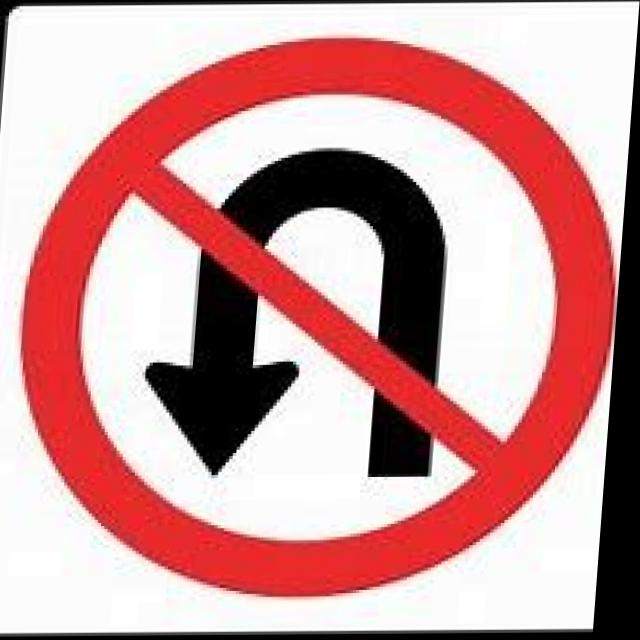U_TURN_PROHIBITED: (5, 31, 638, 608)
